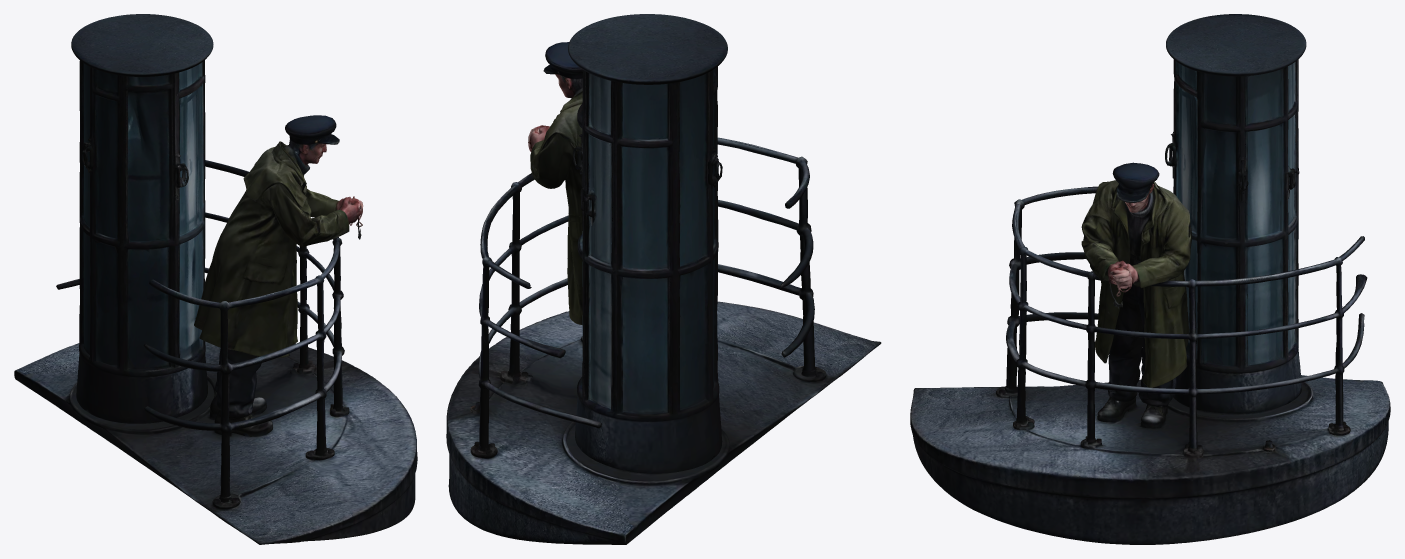
Rendered from lightkeeper.glb.
3 views of the same model, side by side, from view 1: azimuth 30°, elevation 25°; view 2: azimuth 150°, elevation 25°; view 3: azimuth 270°, elevation 25° (orthographic). The views are drawn at different scales.
Parts seen in each view (by area): view 1: tripo_node_12514160-307a-446b-9963-60a6941c125b; view 2: tripo_node_12514160-307a-446b-9963-60a6941c125b; view 3: tripo_node_12514160-307a-446b-9963-60a6941c125b.
Part boxes in pixels (left/top/right/bottom): tripo_node_12514160-307a-446b-9963-60a6941c125b: left=14, top=14, right=417, bottom=544; tripo_node_12514160-307a-446b-9963-60a6941c125b: left=446, top=14, right=881, bottom=544; tripo_node_12514160-307a-446b-9963-60a6941c125b: left=910, top=14, right=1390, bottom=544.
Size of the model in its own units: 0.5856 by 0.927 by 0.9812.
1 material, 1 textured.
